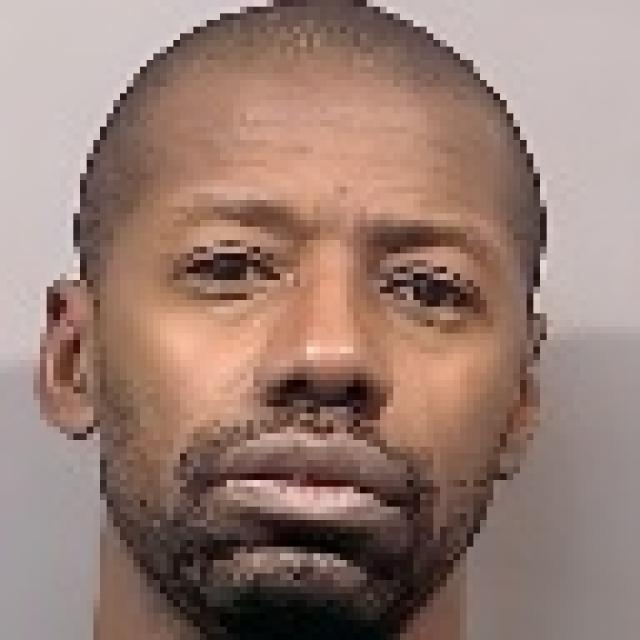sad: (63, 36, 569, 640)
